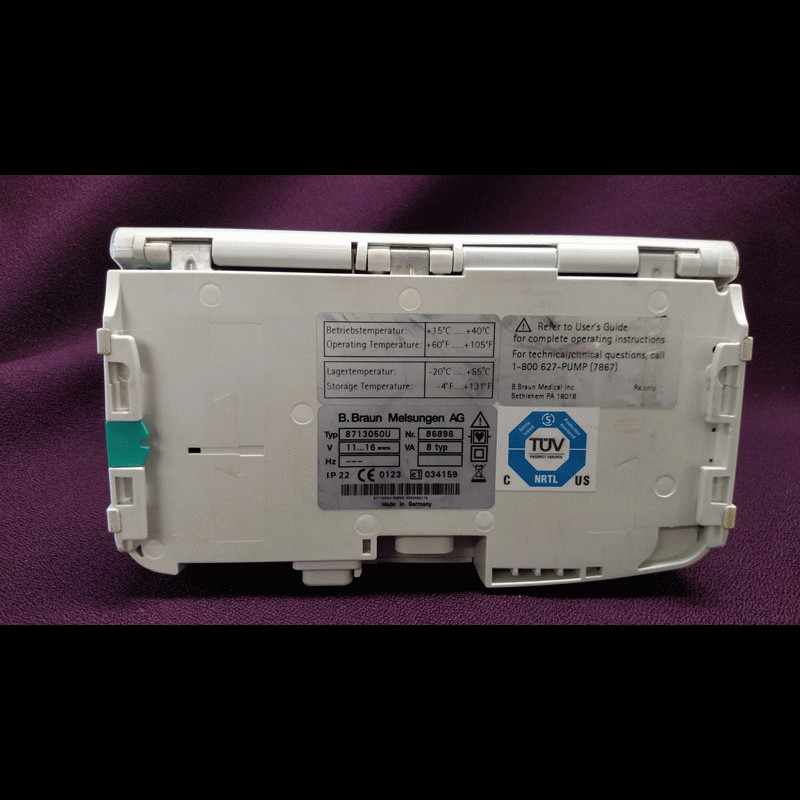BBraun Infusomat Space: (95, 218, 759, 601)
